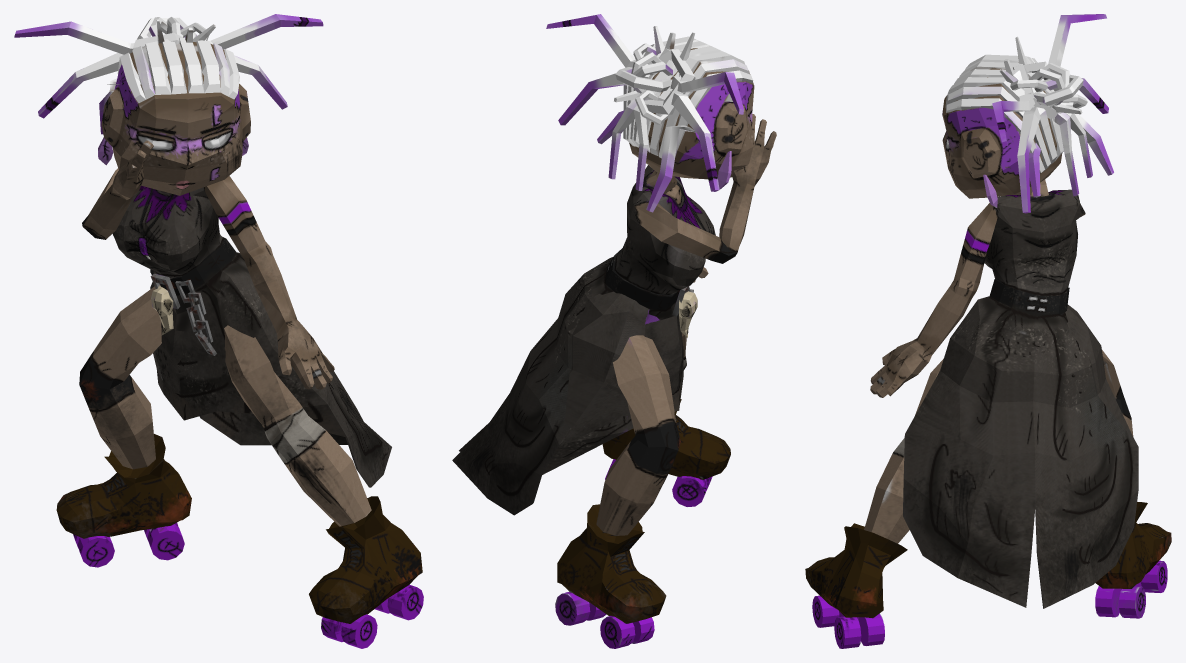
The model's file is bruja_000036.obj.
3 views of the same model, side by side, from view 1: azimuth 30°, elevation 25°; view 2: azimuth 150°, elevation 25°; view 3: azimuth 270°, elevation 25° (orthographic). The views are drawn at different scales.
Visible parts, largest first — view 1: Bruja_Plane.001; view 2: Bruja_Plane.001; view 3: Bruja_Plane.001.
Part boxes in pixels (box(x1,y1,x2,y2)): Bruja_Plane.001: box(14, 14, 423, 648); Bruja_Plane.001: box(452, 14, 776, 648); Bruja_Plane.001: box(805, 14, 1171, 648).
Bounding box in the file's own units: 9.26 × 15.44 × 9.24.
